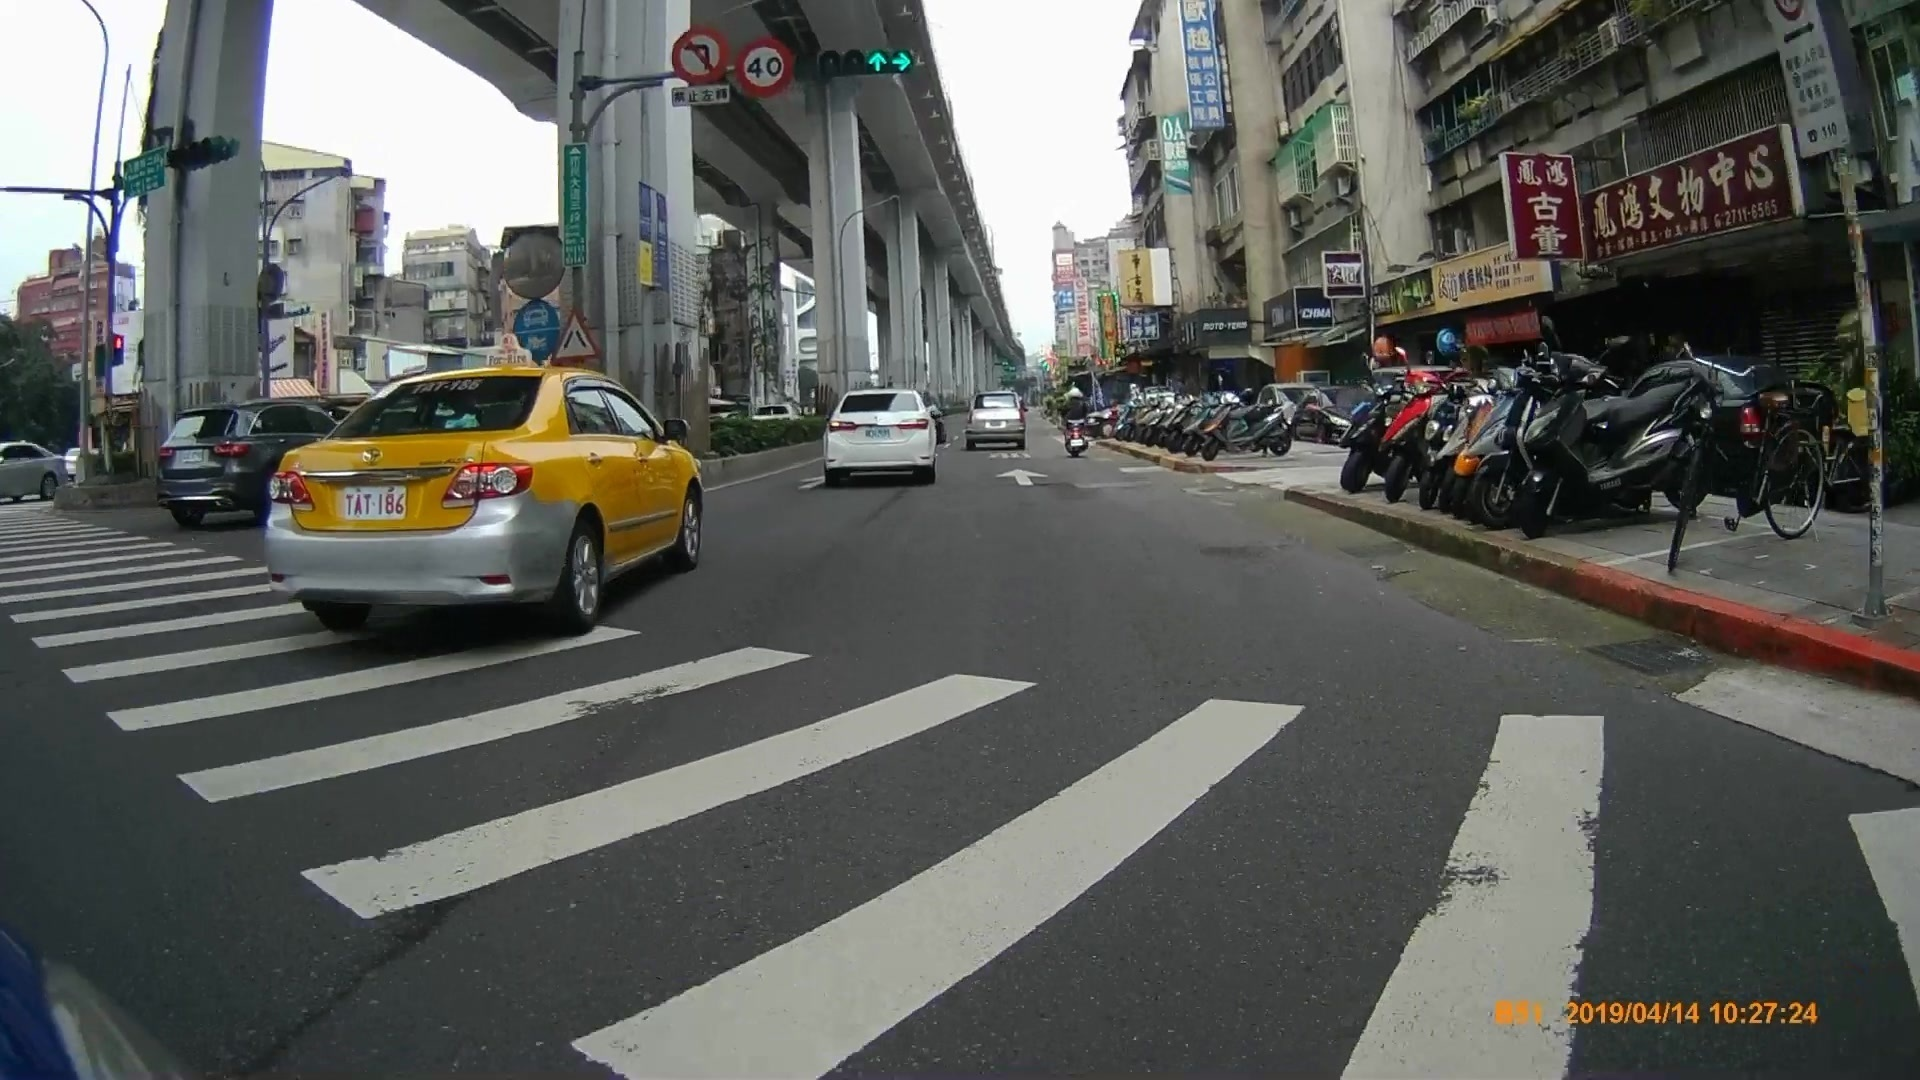License_plate: (338, 483, 412, 522), (862, 424, 897, 444)
